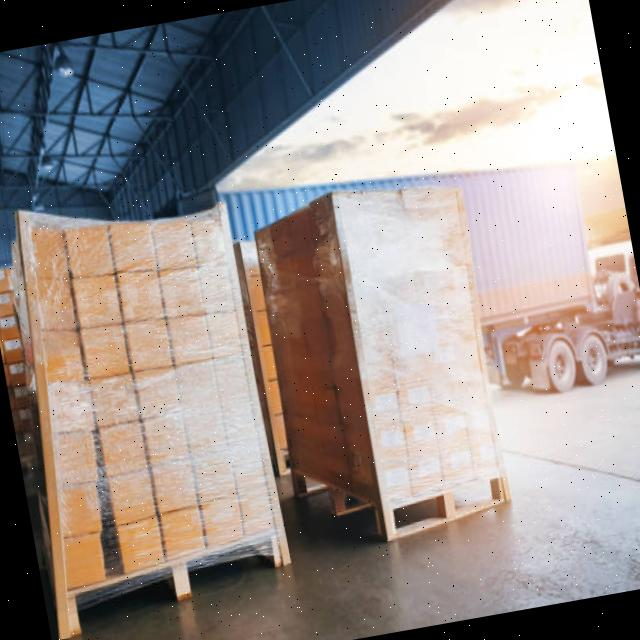Wooden-Pallets: (384, 460, 514, 552)
